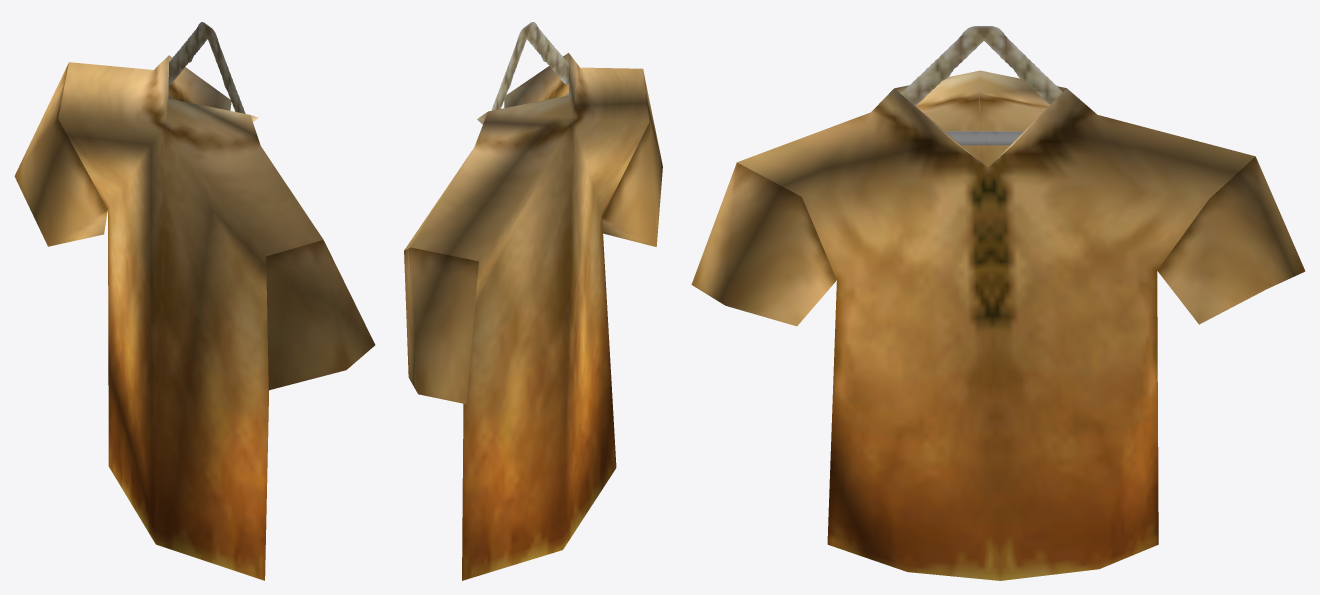
Rendered from hangingshirtbrown.obj.
3 views of the same model, side by side, from view 1: azimuth 30°, elevation 25°; view 2: azimuth 150°, elevation 25°; view 3: azimuth 270°, elevation 25° (orthographic). The views are drawn at different scales.
Parts seen in each view (by area): view 1: hangingshirtbrown.m2; view 2: hangingshirtbrown.m2; view 3: hangingshirtbrown.m2.
Part boxes in pixels (<box>): hangingshirtbrown.m2: <box>14,22,375,580</box>; hangingshirtbrown.m2: <box>404,22,662,580</box>; hangingshirtbrown.m2: <box>691,26,1305,580</box>.
Bounding box in the file's own units: 0.1716 × 0.899 × 0.8947.
Materials: 1 (1 with a texture image).
